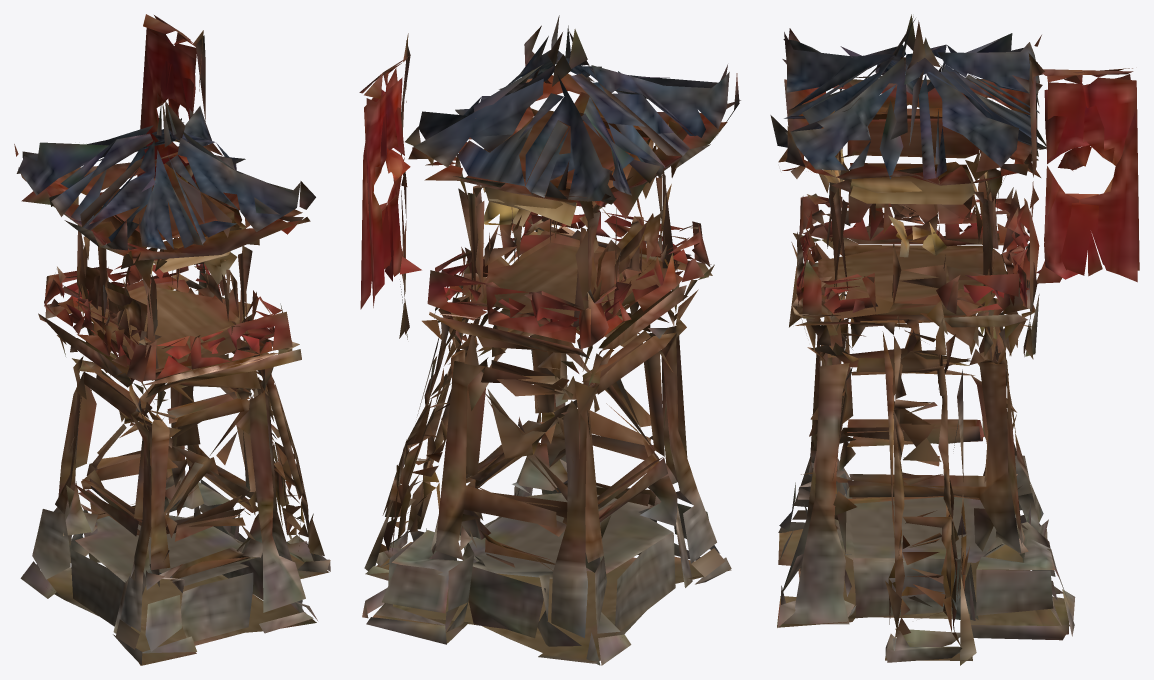
File: torre_lod2.glb
3 views of the same model, side by side, from view 1: azimuth 30°, elevation 25°; view 2: azimuth 150°, elevation 25°; view 3: azimuth 270°, elevation 25° (orthographic). The views are drawn at different scales.
Visible parts, largest first — view 1: torre; view 2: torre; view 3: torre.
Part boxes in pixels (bbox=[...]): torre: bbox=[14, 14, 330, 665]; torre: bbox=[359, 15, 740, 665]; torre: bbox=[770, 14, 1139, 665].
Bounding box in the file's own units: 4.65 × 9.13 × 5.23.
1 material, 1 textured.
